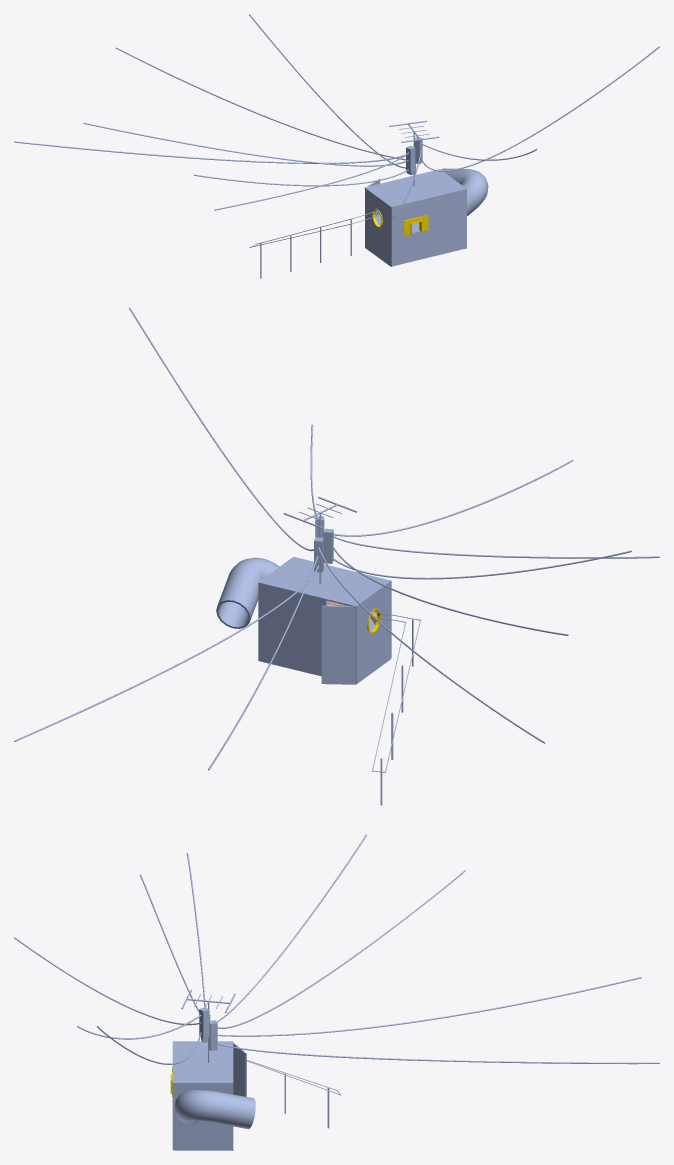
File: TV_Factory.fbx
3 views of the same model, one above another, from view 1: azimuth 30°, elevation 25°; view 2: azimuth 150°, elevation 25°; view 3: azimuth 270°, elevation 25° (orthographic). The views are drawn at different scales.
Parts seen in each view (by area): view 1: Top, Battery_Outlet, Spline_1_2, Spline_1_1, Spline_2.001, Spline_2, Spline_2_1; view 2: Top, Door, Battery_Outlet, Spline_2_2, Spline_1.001; view 3: Top, Battery_Outlet, Spline_2_2, Spline_2.001, Door, Spline_1_2, Spline_1_1.
Part boxes in pixels (x1=…): Top: x1=364, y1=169, x2=466, y2=266; Battery_Outlet: x1=440, y1=168, x2=488, y2=215; Spline_1_2: x1=14, y1=141, x2=404, y2=163; Spline_1_1: x1=83, y1=122, x2=408, y2=166; Spline_2.001: x1=115, y1=47, x2=405, y2=160; Spline_2: x1=421, y1=46, x2=659, y2=171; Spline_2_1: x1=193, y1=169, x2=408, y2=186; Top: x1=258, y1=556, x2=391, y2=684; Door: x1=321, y1=605, x2=355, y2=684; Battery_Outlet: x1=216, y1=557, x2=330, y2=628; Spline_2_2: x1=14, y1=565, x2=319, y2=741; Spline_1.001: x1=333, y1=535, x2=659, y2=558; Top: x1=172, y1=1041, x2=233, y2=1150; Battery_Outlet: x1=174, y1=1090, x2=255, y2=1129; Spline_2_2: x1=217, y1=1043, x2=659, y2=1064; Spline_2.001: x1=217, y1=977, x2=641, y2=1036; Door: x1=233, y1=1042, x2=246, y2=1096; Spline_1_2: x1=217, y1=870, x2=465, y2=1028; Spline_1_1: x1=216, y1=834, x2=366, y2=1022.
Size of the model in its own units: 42294 by 19671 by 43462.
